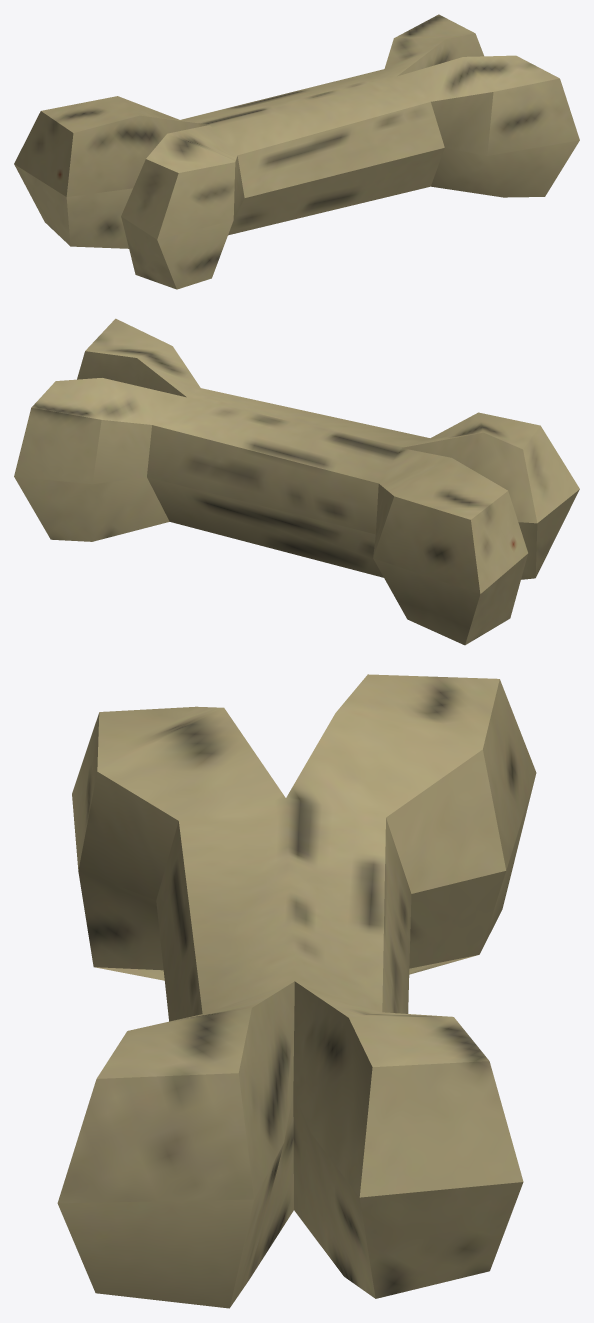
File: fred_s_toy.fbx
The picture shows the model from 3 angles, top to bottom: view 1: azimuth 30°, elevation 25°; view 2: azimuth 150°, elevation 25°; view 3: azimuth 270°, elevation 25°; orthographic projection. The views are drawn at different scales.
Visible parts, largest first — view 1: fred's toy; view 2: fred's toy; view 3: fred's toy.
Boxes of the visible parts, bbox=[...] form: fred's toy: bbox=[14, 14, 579, 289]; fred's toy: bbox=[14, 318, 579, 645]; fred's toy: bbox=[57, 674, 536, 1308].
Size of the model in its own units: 17.77 by 5.18 by 8.26.
1 material, 1 textured.
